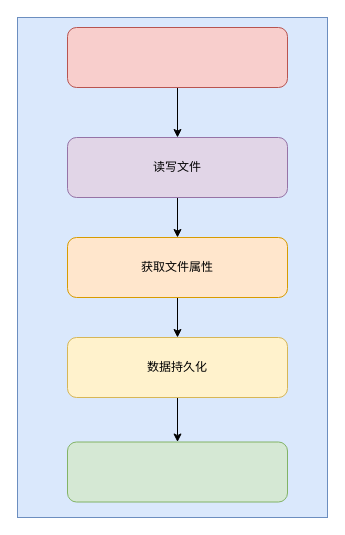
Image size: 345x535. Some labels were removed from this diagram. Here are the shapes that lost their labels. From the top down, the centre of each, then its label:
pixel 177 57: 打开文件
pixel 177 471: 关闭文件
